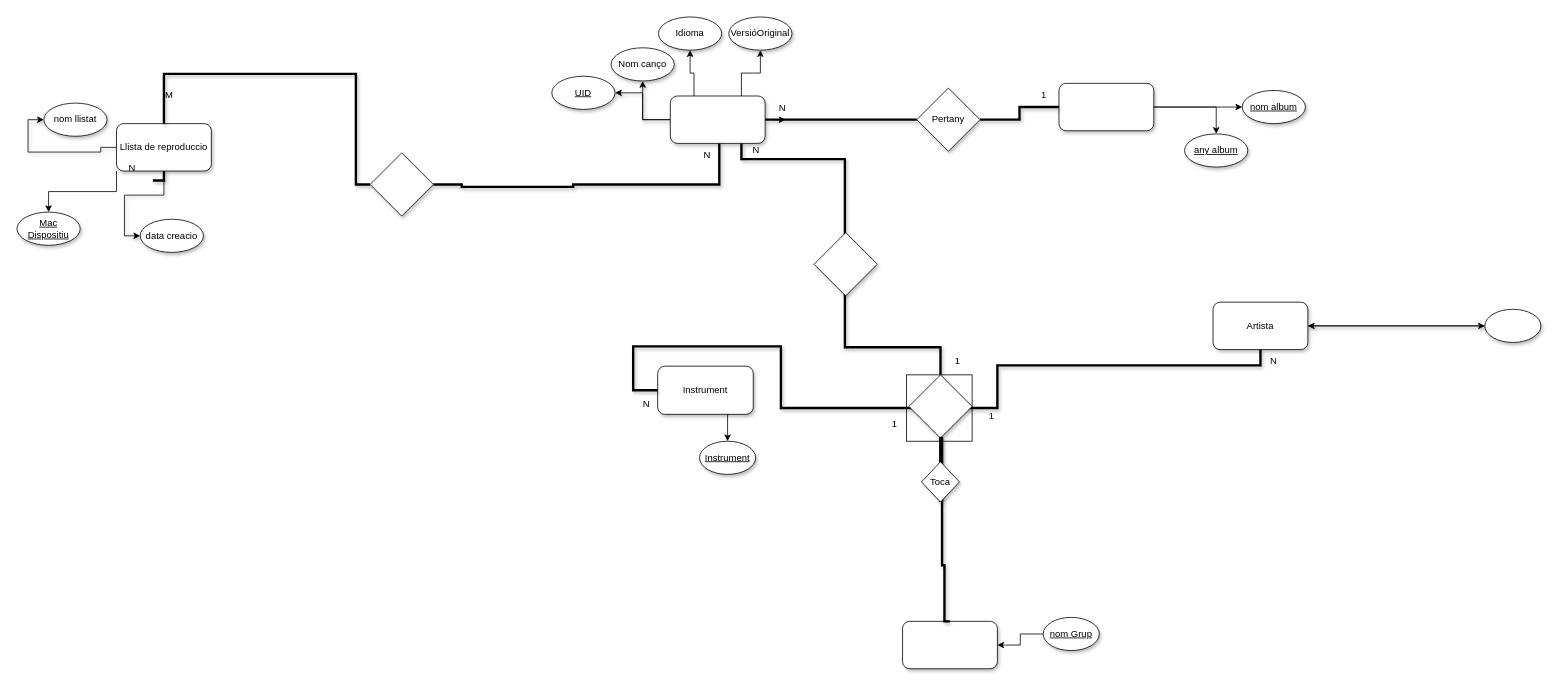
Image size: 1559x688. Some labels were removed from this diagram. The shapes that lost their labels are listed below. From the top down, each one's centre as x and y in pixels, then its label:
At point (718, 120): "Canço".
At point (1107, 107): "Album".
At point (402, 185): "Conte/ Pertany".
At point (846, 265): "Utilitza".
At point (1513, 326): "nom Artista".
At point (941, 407): "Artist-instrument".
At point (950, 645): "Grup".
